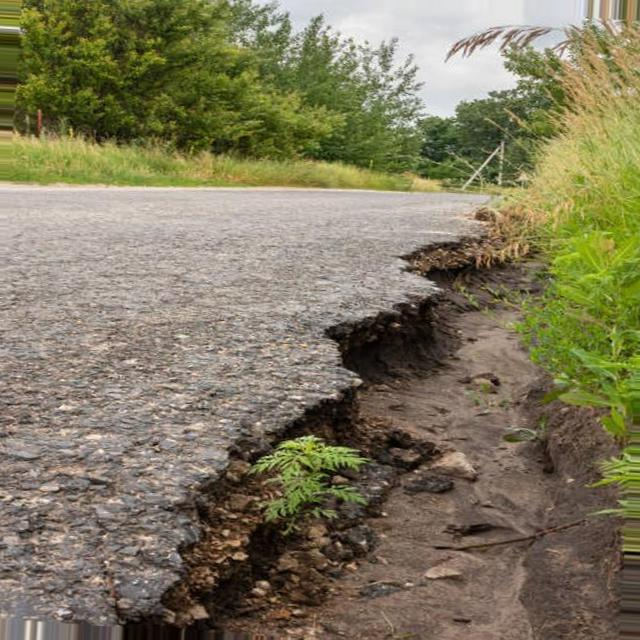Pinggir: (139, 216, 536, 638)
